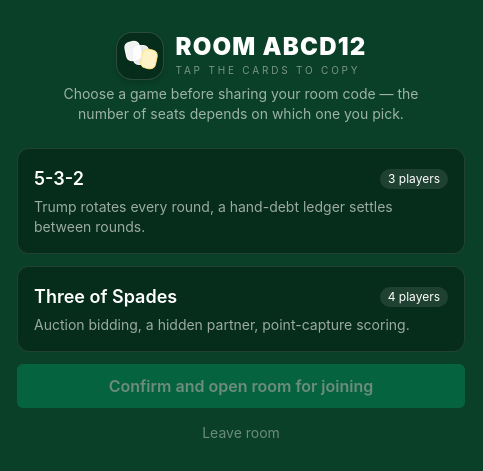
Test: SelectGame › surfaces an error from the server
Click the text "5-3-2". click: (59, 179)
box: [34,165,84,193]
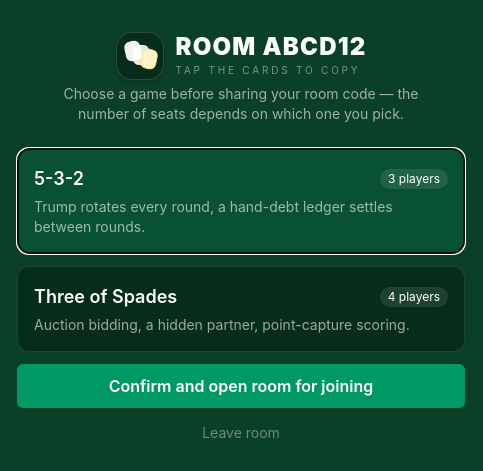
Click the button "Confirm and open room for joining". click: (241, 386)
box: [17,364,465,408]
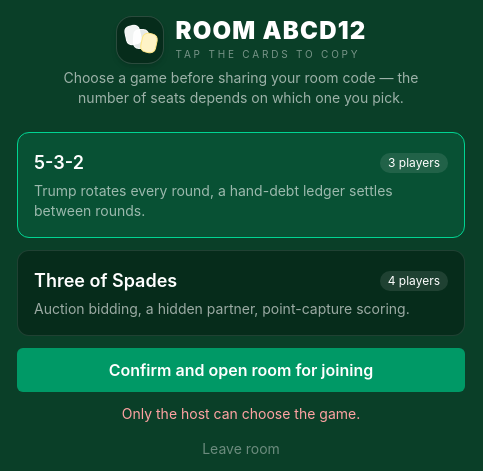
Expected: the text "Only the host can choose the game." is shown, [122,405,360,422]
